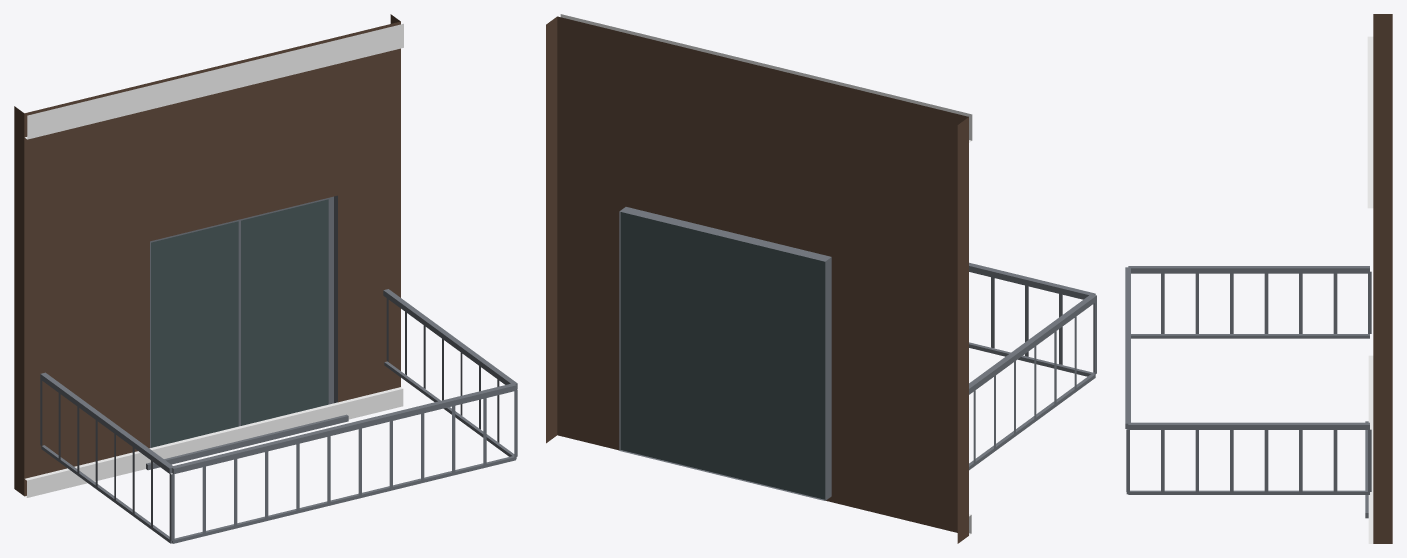
The model's file is top-stair.fbx.
The picture shows the model from 3 angles, left to right: view 1: azimuth 30°, elevation 25°; view 2: azimuth 150°, elevation 25°; view 3: azimuth 270°, elevation 25°; orthographic projection. The views are drawn at different scales.
Parts seen in each view (by area): view 1: a2000s3/800/top-stair; view 2: a2000s3/800/top-stair; view 3: a2000s3/800/top-stair.
Part boxes in pixels (x1,y1,x2,y2): a2000s3/800/top-stair: (14, 14, 517, 543); a2000s3/800/top-stair: (546, 14, 1096, 543); a2000s3/800/top-stair: (1125, 14, 1392, 543).
Bounding box in the file's own units: 3.6 × 3.5 × 2.37.
